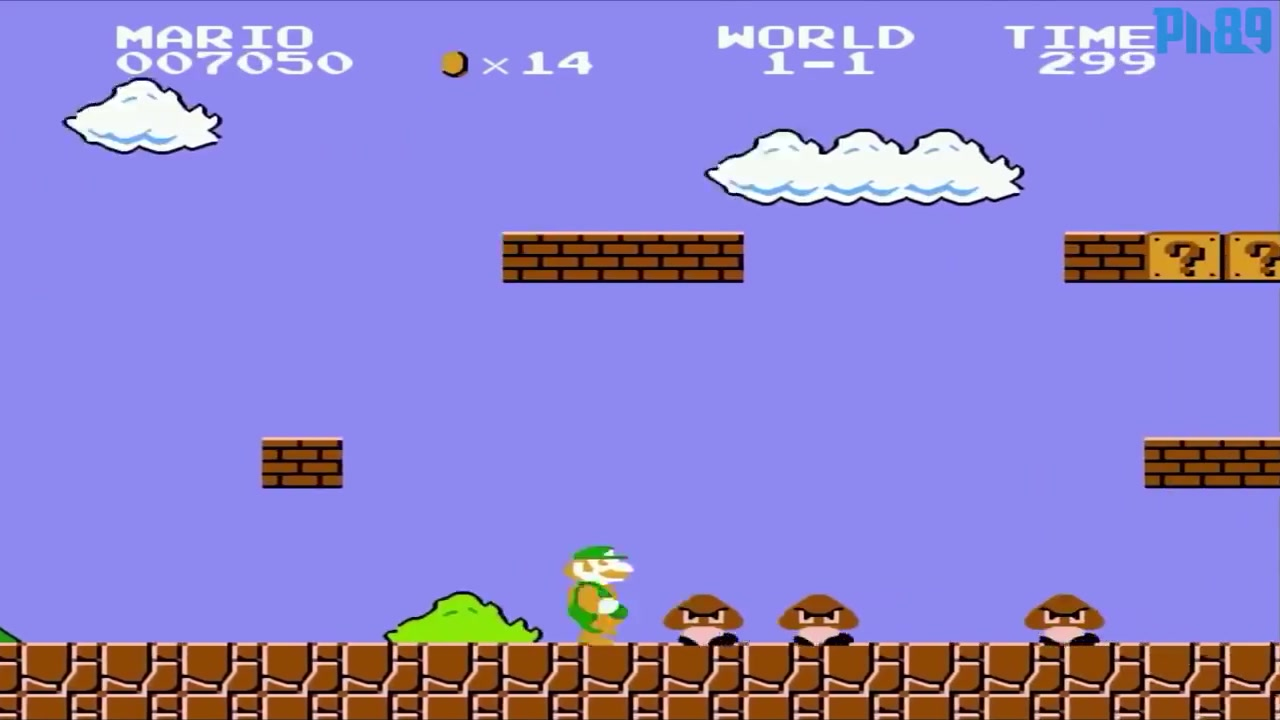mario: (563, 526, 633, 645)
